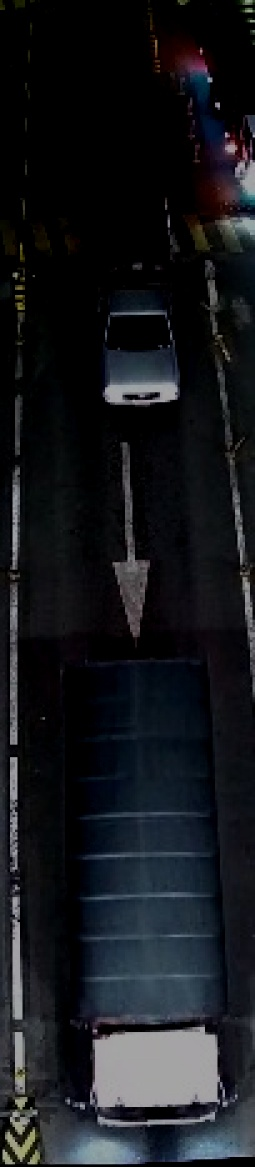car: (76, 180, 201, 419)
truck: (48, 645, 247, 1137), (189, 1, 253, 176)
